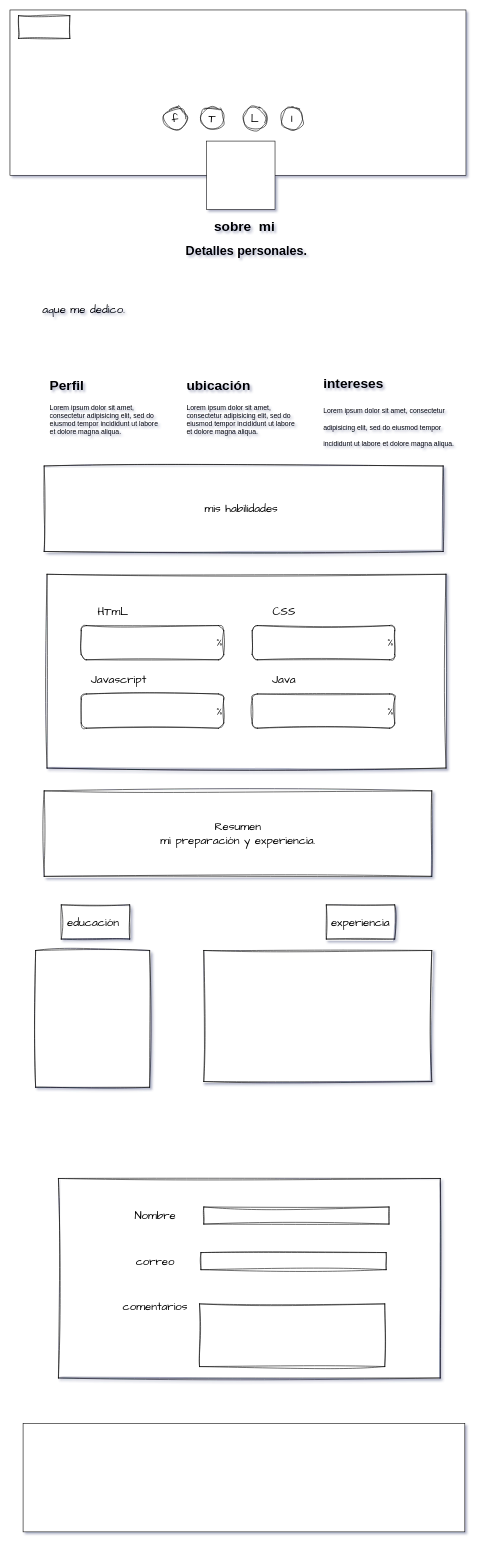
This 479x1545 diagram has some shape labels left out. Each missing label, with the box of its shape:
contacto Teléfono correo pagina web: (23, 1423, 465, 1532)
foto: (206, 141, 275, 209)
menu: (18, 15, 70, 38)
